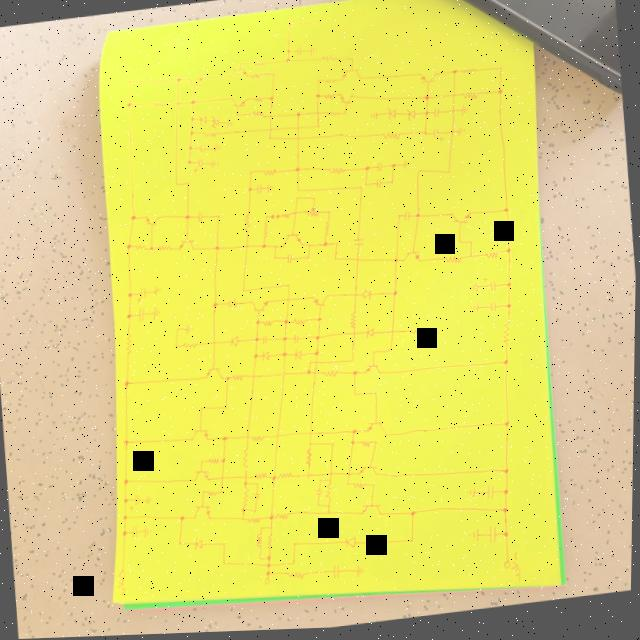capacitor: (133, 285, 150, 304), (481, 278, 497, 297), (128, 492, 142, 512), (487, 526, 500, 547), (431, 130, 445, 147), (331, 564, 343, 582), (136, 306, 147, 325), (191, 159, 203, 176), (485, 302, 496, 318), (194, 210, 205, 226), (130, 524, 139, 542), (257, 336, 271, 347), (486, 486, 494, 505), (432, 108, 442, 123), (372, 163, 384, 174), (197, 143, 207, 156), (374, 179, 383, 193), (401, 212, 411, 224), (294, 47, 304, 58), (254, 184, 263, 196), (291, 334, 300, 346), (313, 490, 324, 499), (286, 254, 293, 268), (252, 492, 261, 502)
crossover: (387, 329, 396, 339), (447, 110, 456, 118), (250, 373, 257, 381), (266, 127, 273, 134), (449, 95, 456, 102), (448, 132, 455, 139), (345, 473, 352, 480), (291, 211, 298, 218), (351, 333, 357, 339), (210, 341, 216, 347), (173, 101, 179, 107), (293, 126, 299, 132), (294, 136, 300, 142), (352, 294, 357, 300), (285, 299, 291, 304), (314, 112, 319, 118), (219, 476, 224, 481), (244, 245, 248, 250), (268, 115, 272, 120), (245, 437, 249, 441), (243, 476, 247, 480), (275, 435, 279, 439), (281, 374, 285, 378), (308, 433, 312, 437), (313, 373, 317, 377), (329, 474, 333, 478)
diode: (342, 537, 358, 553), (383, 108, 399, 124), (208, 113, 219, 131), (363, 328, 377, 342), (228, 336, 241, 349), (350, 238, 365, 249), (196, 114, 207, 129), (403, 111, 415, 124), (359, 291, 371, 304), (225, 298, 237, 311), (194, 538, 205, 552), (293, 351, 303, 362)
ground: (464, 489, 478, 504), (150, 303, 160, 323), (143, 524, 154, 541), (467, 532, 480, 546), (354, 565, 365, 580), (466, 283, 478, 296), (468, 303, 479, 317), (431, 327, 440, 342), (144, 494, 153, 509), (184, 323, 193, 337), (150, 285, 160, 297), (307, 46, 316, 59), (264, 184, 273, 196), (367, 113, 379, 122), (456, 128, 465, 140), (212, 144, 222, 154), (457, 109, 468, 118), (209, 159, 218, 170), (223, 119, 232, 130), (314, 18, 322, 28), (401, 164, 408, 171)
inductor: (255, 534, 263, 549)
junction: (127, 214, 136, 222), (122, 380, 131, 388), (350, 371, 358, 380), (124, 101, 132, 109), (502, 424, 510, 432), (502, 361, 510, 369), (495, 68, 503, 76), (146, 246, 154, 254), (356, 186, 363, 195), (496, 91, 503, 99), (124, 79, 132, 86), (455, 242, 463, 249), (120, 530, 127, 538), (349, 440, 356, 448), (422, 112, 429, 120), (423, 96, 430, 104), (450, 72, 458, 79), (183, 214, 190, 222), (223, 376, 231, 383), (504, 250, 511, 257), (505, 284, 512, 291), (409, 512, 416, 519), (179, 516, 186, 523), (502, 510, 509, 517), (124, 243, 131, 250), (503, 534, 510, 541), (350, 430, 357, 437), (293, 168, 300, 175), (390, 292, 397, 299), (502, 471, 509, 478), (505, 306, 512, 313), (211, 302, 218, 309), (197, 406, 204, 413), (414, 171, 421, 178), (221, 561, 228, 568), (177, 541, 184, 548), (444, 171, 451, 178), (213, 246, 220, 253), (409, 539, 416, 546), (125, 314, 132, 321), (348, 58, 355, 65), (221, 436, 228, 443), (174, 77, 181, 84), (188, 100, 195, 107), (183, 181, 190, 188), (295, 112, 302, 119), (221, 405, 228, 412), (304, 256, 311, 263), (466, 256, 473, 263), (370, 351, 377, 358), (293, 189, 300, 196), (121, 515, 128, 522), (122, 439, 129, 446), (221, 458, 228, 465), (502, 491, 509, 498), (252, 354, 259, 361), (281, 353, 288, 360), (312, 351, 319, 358), (280, 337, 287, 344), (313, 335, 320, 342), (348, 359, 355, 366), (392, 259, 399, 266), (362, 167, 369, 174), (389, 165, 396, 172), (240, 288, 247, 295), (500, 210, 507, 217), (267, 96, 274, 103), (188, 131, 195, 138), (126, 293, 133, 300), (321, 243, 328, 249), (285, 284, 291, 291), (340, 113, 347, 119), (214, 214, 220, 220), (329, 444, 335, 450), (122, 479, 128, 485), (268, 515, 274, 521), (305, 371, 311, 377), (316, 319, 322, 325), (260, 245, 266, 251), (245, 187, 251, 193), (325, 212, 331, 218), (421, 133, 427, 139), (284, 50, 290, 56), (305, 474, 311, 480), (266, 555, 271, 562), (186, 159, 191, 166), (123, 497, 128, 503), (219, 491, 225, 496), (265, 571, 270, 577), (282, 320, 287, 326), (270, 73, 275, 79), (283, 60, 289, 65), (173, 342, 178, 348), (290, 562, 296, 567), (467, 243, 473, 248), (372, 393, 377, 398), (222, 543, 227, 548), (267, 565, 272, 570), (414, 216, 419, 221), (363, 183, 368, 188), (240, 508, 246, 512), (253, 338, 257, 344), (333, 244, 339, 248), (352, 394, 356, 399), (388, 350, 392, 355), (333, 258, 337, 263), (241, 518, 245, 523), (243, 481, 247, 486), (345, 484, 349, 489), (318, 479, 322, 484), (326, 506, 331, 510), (327, 481, 332, 485), (371, 485, 375, 490), (373, 442, 377, 447), (255, 321, 260, 325), (295, 198, 299, 203), (312, 199, 316, 204), (389, 182, 393, 187), (314, 96, 319, 100), (237, 63, 241, 68), (234, 113, 238, 118), (173, 182, 177, 187), (187, 146, 191, 151), (189, 117, 194, 121), (175, 328, 180, 332), (200, 461, 204, 465), (254, 483, 258, 487), (252, 511, 256, 515), (316, 504, 320, 508), (326, 513, 330, 517), (272, 477, 276, 481), (269, 527, 273, 531), (258, 557, 262, 561), (201, 491, 205, 495), (308, 362, 312, 366), (396, 217, 400, 221), (307, 246, 311, 250), (272, 257, 276, 261), (273, 247, 277, 251), (247, 172, 251, 176), (263, 216, 267, 220), (315, 127, 319, 131), (266, 137, 270, 141), (314, 80, 318, 84), (286, 24, 290, 28), (293, 544, 297, 548), (259, 527, 263, 530)
resistor: (123, 329, 136, 357), (286, 569, 307, 583), (381, 130, 402, 144), (461, 92, 480, 107), (443, 256, 464, 269), (301, 207, 320, 221), (500, 325, 511, 349), (238, 448, 250, 470), (326, 166, 348, 178), (155, 242, 176, 254), (317, 55, 337, 67), (241, 215, 253, 234), (320, 370, 340, 381), (148, 100, 168, 111), (250, 434, 267, 446), (348, 314, 358, 333), (148, 77, 167, 87), (274, 511, 291, 522), (410, 330, 428, 340), (352, 482, 367, 494), (322, 221, 331, 240), (260, 168, 277, 178), (253, 472, 270, 482), (250, 96, 265, 107), (250, 110, 263, 122), (483, 253, 498, 263), (305, 449, 313, 467), (242, 489, 250, 507), (180, 341, 197, 349), (290, 319, 305, 328), (259, 320, 274, 329), (278, 472, 293, 481), (248, 73, 263, 82), (207, 488, 218, 500), (134, 243, 147, 253), (266, 536, 274, 552), (284, 29, 292, 45), (260, 222, 268, 237), (202, 131, 217, 139), (251, 517, 264, 526), (207, 457, 220, 466), (321, 94, 334, 103), (297, 20, 310, 29), (325, 486, 332, 502), (360, 442, 372, 451), (322, 79, 337, 86), (233, 374, 244, 383), (279, 212, 290, 221), (461, 70, 475, 77), (252, 62, 266, 69), (324, 112, 337, 119)
terminal: (502, 563, 512, 575), (117, 570, 128, 580), (269, 214, 279, 222), (263, 578, 271, 587), (284, 16, 294, 23)
text: (509, 555, 523, 587), (115, 579, 129, 599)
transistor: (358, 503, 385, 523), (192, 466, 215, 488), (279, 232, 304, 252), (190, 503, 213, 524), (400, 251, 424, 270), (339, 67, 362, 86), (448, 211, 472, 229), (248, 297, 269, 317), (201, 365, 223, 384), (176, 237, 198, 256), (417, 72, 440, 90), (357, 465, 380, 483), (189, 428, 210, 447), (366, 422, 389, 439), (310, 293, 330, 311), (225, 67, 249, 82), (361, 365, 382, 379), (337, 94, 356, 109), (142, 213, 160, 228), (229, 97, 246, 110), (186, 76, 203, 89)
